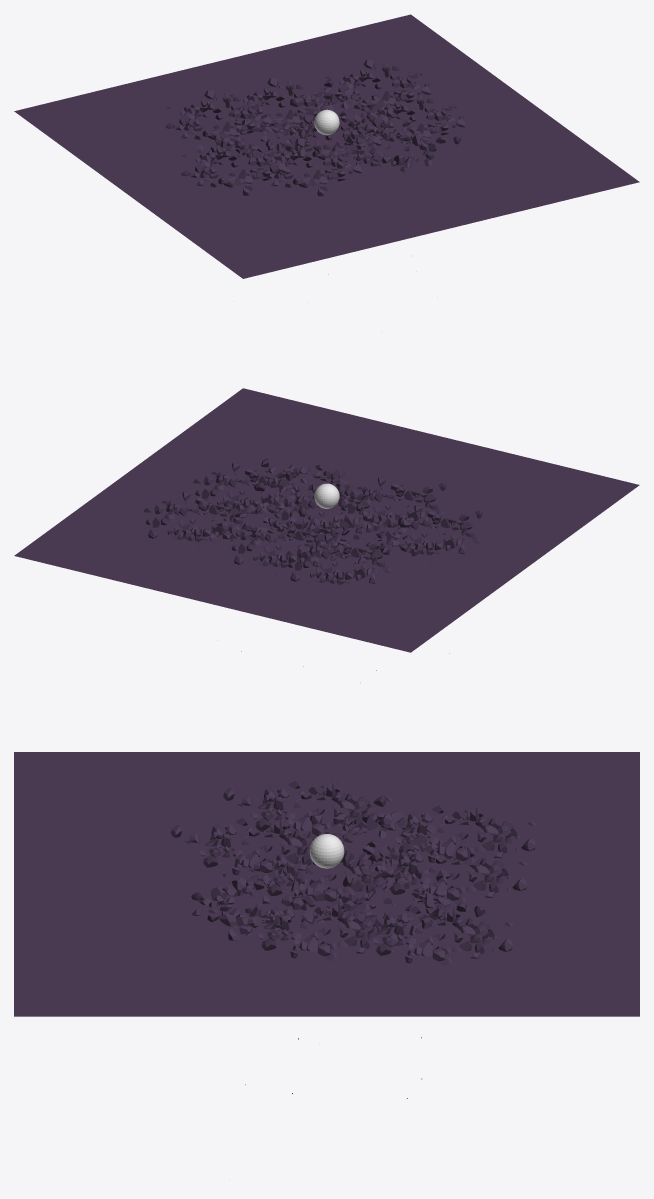
File: rock.fbx
3 views of the same model, one above another, from view 1: azimuth 30°, elevation 25°; view 2: azimuth 150°, elevation 25°; view 3: azimuth 270°, elevation 25° (orthographic). The views are drawn at different scales.
Parts seen in each view (by area): view 1: Plane, Rock 8, Rock 7, Rock 4, Rock 5, Rock 11, Rock 10, Rock 9, Rock 1, rOCK 3, Rock 6, Sphere; view 2: Plane, Rock 8, Rock 7, Rock 11, Rock 9, Rock 5, Rock 10, rOCK 3, Rock 1, Rock 4, Rock 6, Sphere; view 3: Plane, Rock 8, Rock 11, Rock 4, Rock 7, Rock 10, Rock 5, Rock 9, rOCK 3, Rock 1, Rock 6, Sphere.
Part boxes in pixels (box(x1,y1,x2,y2)): Plane: box(14, 14, 639, 278); Rock 8: box(165, 90, 271, 147); Rock 7: box(181, 138, 286, 195); Rock 4: box(331, 118, 460, 172); Rock 5: box(256, 138, 361, 196); Rock 11: box(324, 59, 430, 117); Rock 10: box(359, 92, 464, 150); Rock 9: box(228, 78, 334, 135); Rock 1: box(196, 117, 315, 159); rOCK 3: box(290, 78, 392, 133); Rock 6: box(279, 110, 381, 274); Sphere: box(314, 109, 339, 135); Plane: box(14, 388, 639, 652); Rock 8: box(286, 534, 392, 593); Rock 7: box(376, 505, 482, 653); Rock 11: box(144, 491, 250, 550); Rock 9: box(230, 517, 336, 666); Rock 5: box(340, 477, 445, 534); Rock 10: box(193, 462, 299, 520); rOCK 3: box(209, 500, 315, 651); Rock 1: box(299, 511, 418, 670); Rock 4: box(254, 458, 368, 507); Rock 6: box(273, 484, 379, 533); Sphere: box(314, 483, 339, 508); Plane: box(14, 752, 639, 1016); Rock 8: box(369, 805, 536, 865); Rock 11: box(344, 906, 513, 1098); Rock 4: box(191, 864, 337, 1084); Rock 7: box(223, 781, 392, 836); Rock 10: box(230, 902, 398, 1093); Rock 5: box(171, 818, 316, 877); Rock 9: box(359, 845, 527, 1038); rOCK 3: box(316, 865, 485, 1079); Rock 1: box(302, 795, 443, 877); Rock 6: box(235, 846, 403, 1039); Sphere: box(309, 834, 344, 868).
Bounding box in the file's own units: 3602 × 1750 × 3602.
